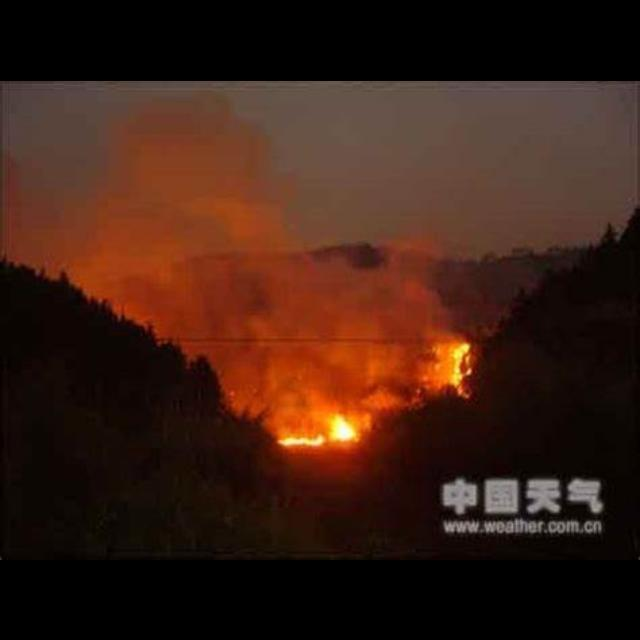Fire: (278, 414, 360, 446), (452, 339, 472, 398)
Smoke: (2, 88, 474, 440)
